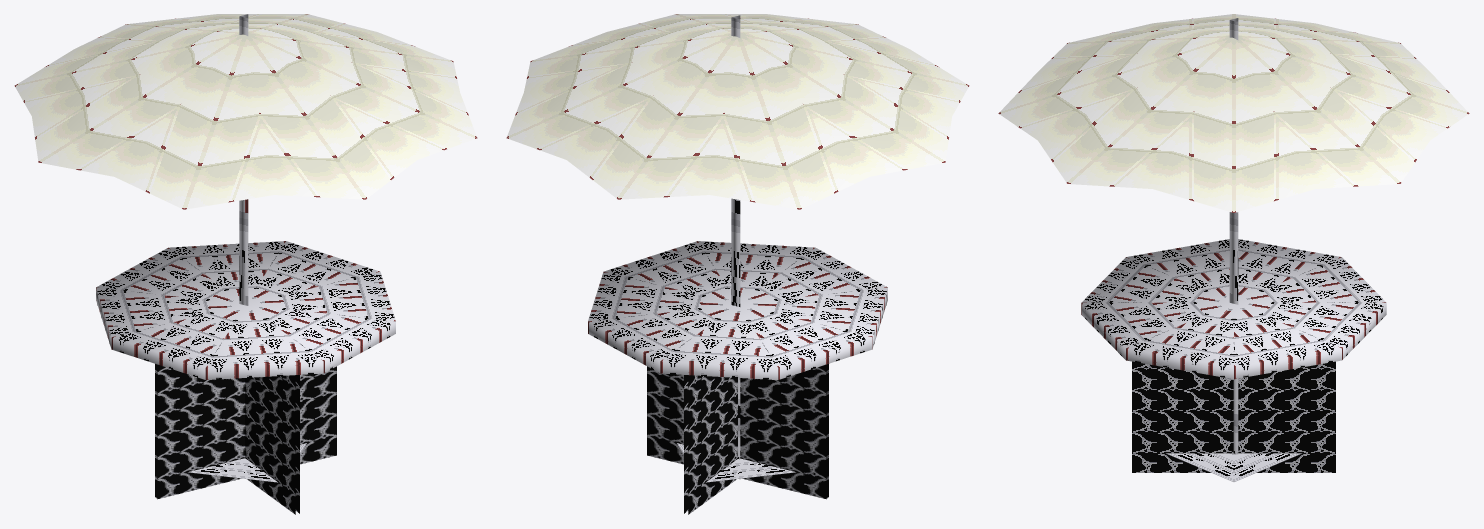
The model's file is 3432IMIG20_31.gltf.
3 views of the same model, side by side, from view 1: azimuth 30°, elevation 25°; view 2: azimuth 150°, elevation 25°; view 3: azimuth 270°, elevation 25° (orthographic).
Visible parts, largest first — view 1: 3432IMIG20_31; view 2: 3432IMIG20_31; view 3: 3432IMIG20_31.
Part boxes in pixels (x1,y1,x2,y2): 3432IMIG20_31: (14,14,477,514); 3432IMIG20_31: (506,14,969,514); 3432IMIG20_31: (998,14,1469,481).
Size of the model in its own units: 1.9 by 2.01 by 1.9.
Materials: 4 (4 with a texture image).
